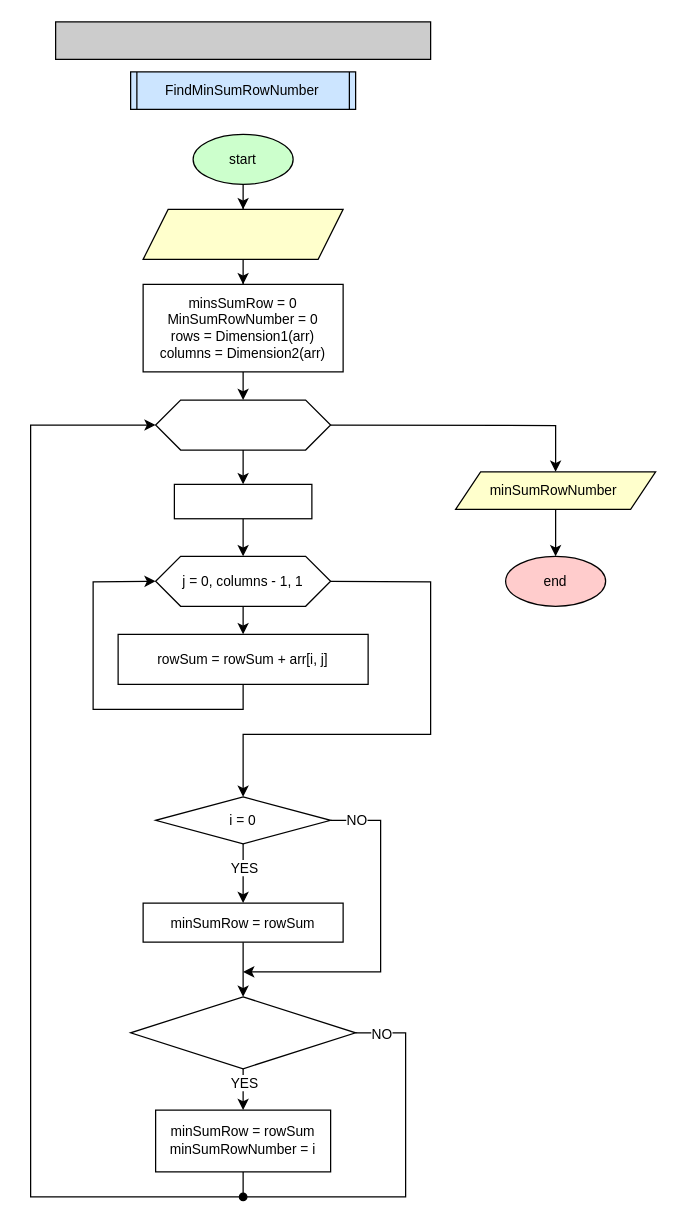
Image size: 678x1229. Some labels were removed from this diagram. Here are the shapes that lost their labels. From the top down, the centre of each, then its label:
At [242,40]: "метод находит строку с наименьшей суммой элементов.".
At [242,233]: "arr".
At [242,424]: "i = 0, rows - 1, 1".
At [242,501]: "rowSum = 0".
At [242,1032]: "minSumRow > rowSum".
